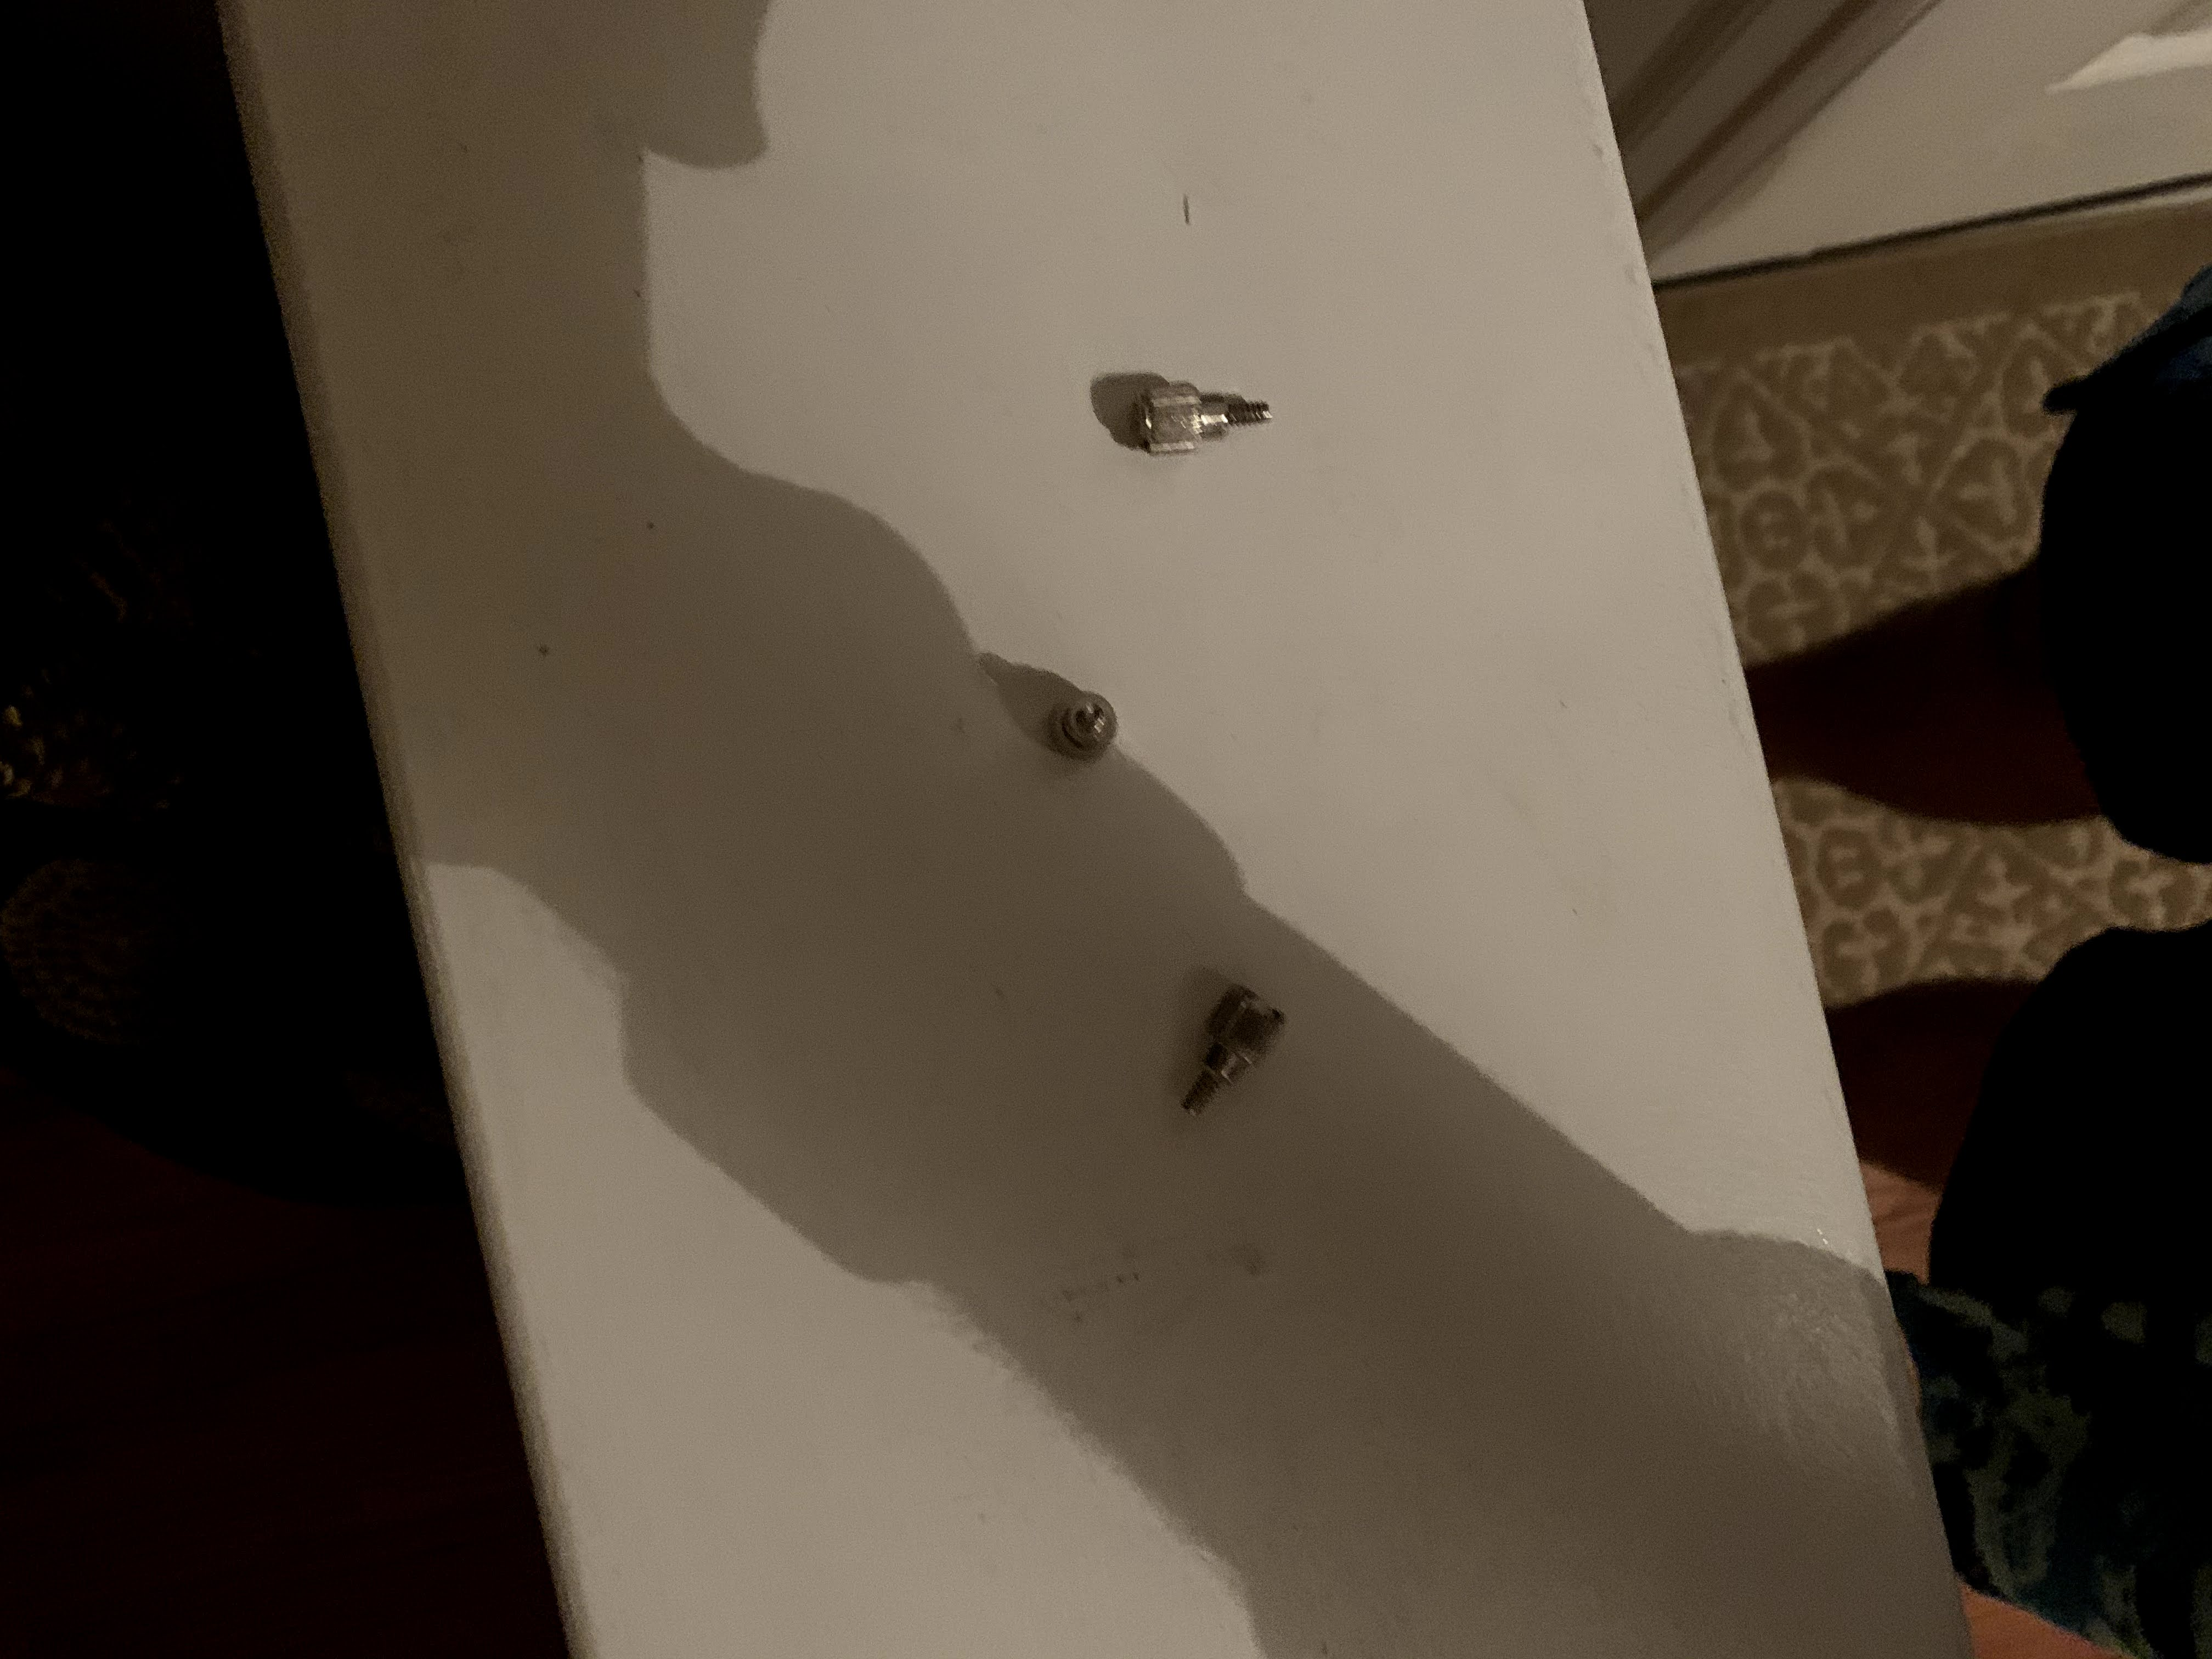Space-debris-small: (1163, 969, 1287, 1133), (1120, 366, 1284, 460), (1031, 687, 1132, 770)
